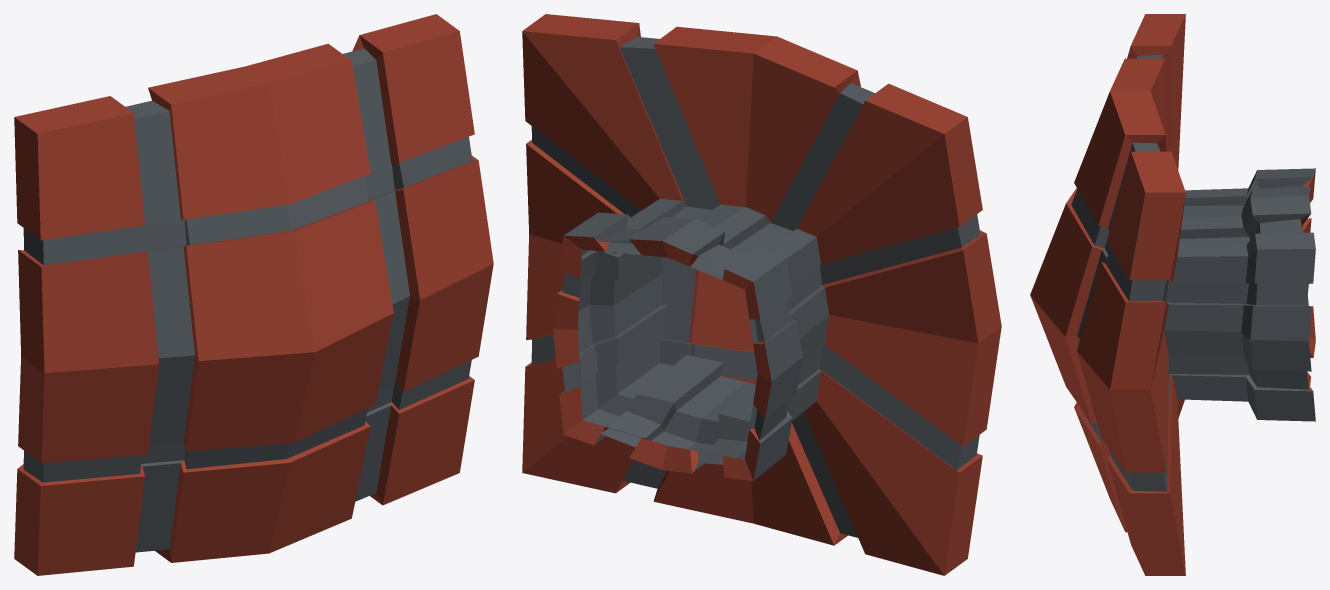
The model's file is Personal_Vehicle_01_Bumper_Red.fbx.
The picture shows the model from 3 angles, left to right: view 1: azimuth 30°, elevation 25°; view 2: azimuth 150°, elevation 25°; view 3: azimuth 270°, elevation 25°; orthographic projection. The views are drawn at different scales.
Parts seen in each view (by area): view 1: Personal_Vehicle_01_Bumper_Red; view 2: Personal_Vehicle_01_Bumper_Red; view 3: Personal_Vehicle_01_Bumper_Red.
Part boxes in pixels (x1,y1,x2,y2): Personal_Vehicle_01_Bumper_Red: (14, 14, 493, 575); Personal_Vehicle_01_Bumper_Red: (522, 14, 1001, 575); Personal_Vehicle_01_Bumper_Red: (1030, 14, 1315, 575).
Size of the model in its own units: 37.83 by 37.83 by 24.03.
1 material, 1 textured.
